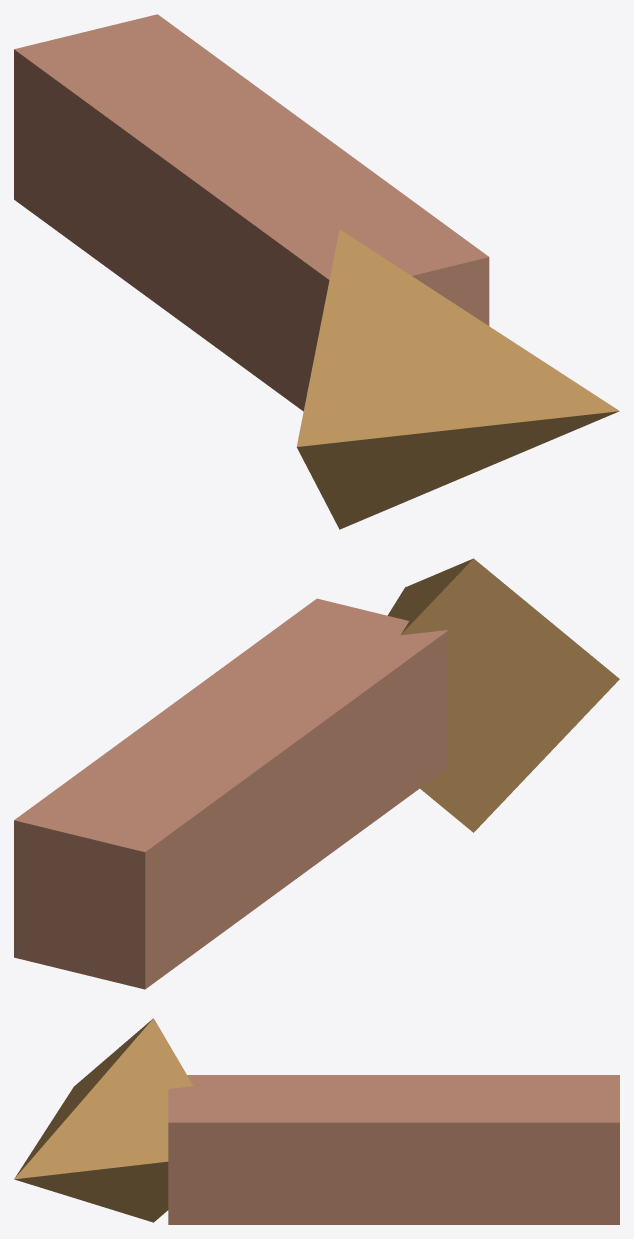
The model's file is bolt.glb.
3 views of the same model, one above another, from view 1: azimuth 30°, elevation 25°; view 2: azimuth 150°, elevation 25°; view 3: azimuth 270°, elevation 25° (orthographic). The views are drawn at different scales.
Visible parts, largest first — view 1: Shaft, Head; view 2: Shaft, Head; view 3: Shaft, Head.
Part boxes in pixels (x1,y1,x2,y2): Shaft: (14, 14, 489, 411); Head: (296, 229, 619, 529); Shaft: (14, 598, 447, 989); Head: (387, 558, 619, 832); Shaft: (168, 1075, 619, 1224); Head: (14, 1018, 193, 1222).
Bounding box in the file's own units: 0.1556 × 0.16 × 0.4295.
